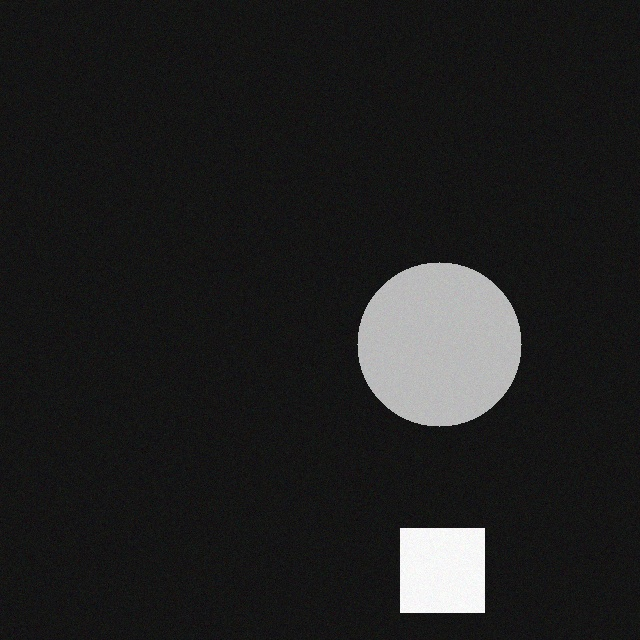circle: (350, 251, 514, 415)
square: (393, 517, 477, 601)
